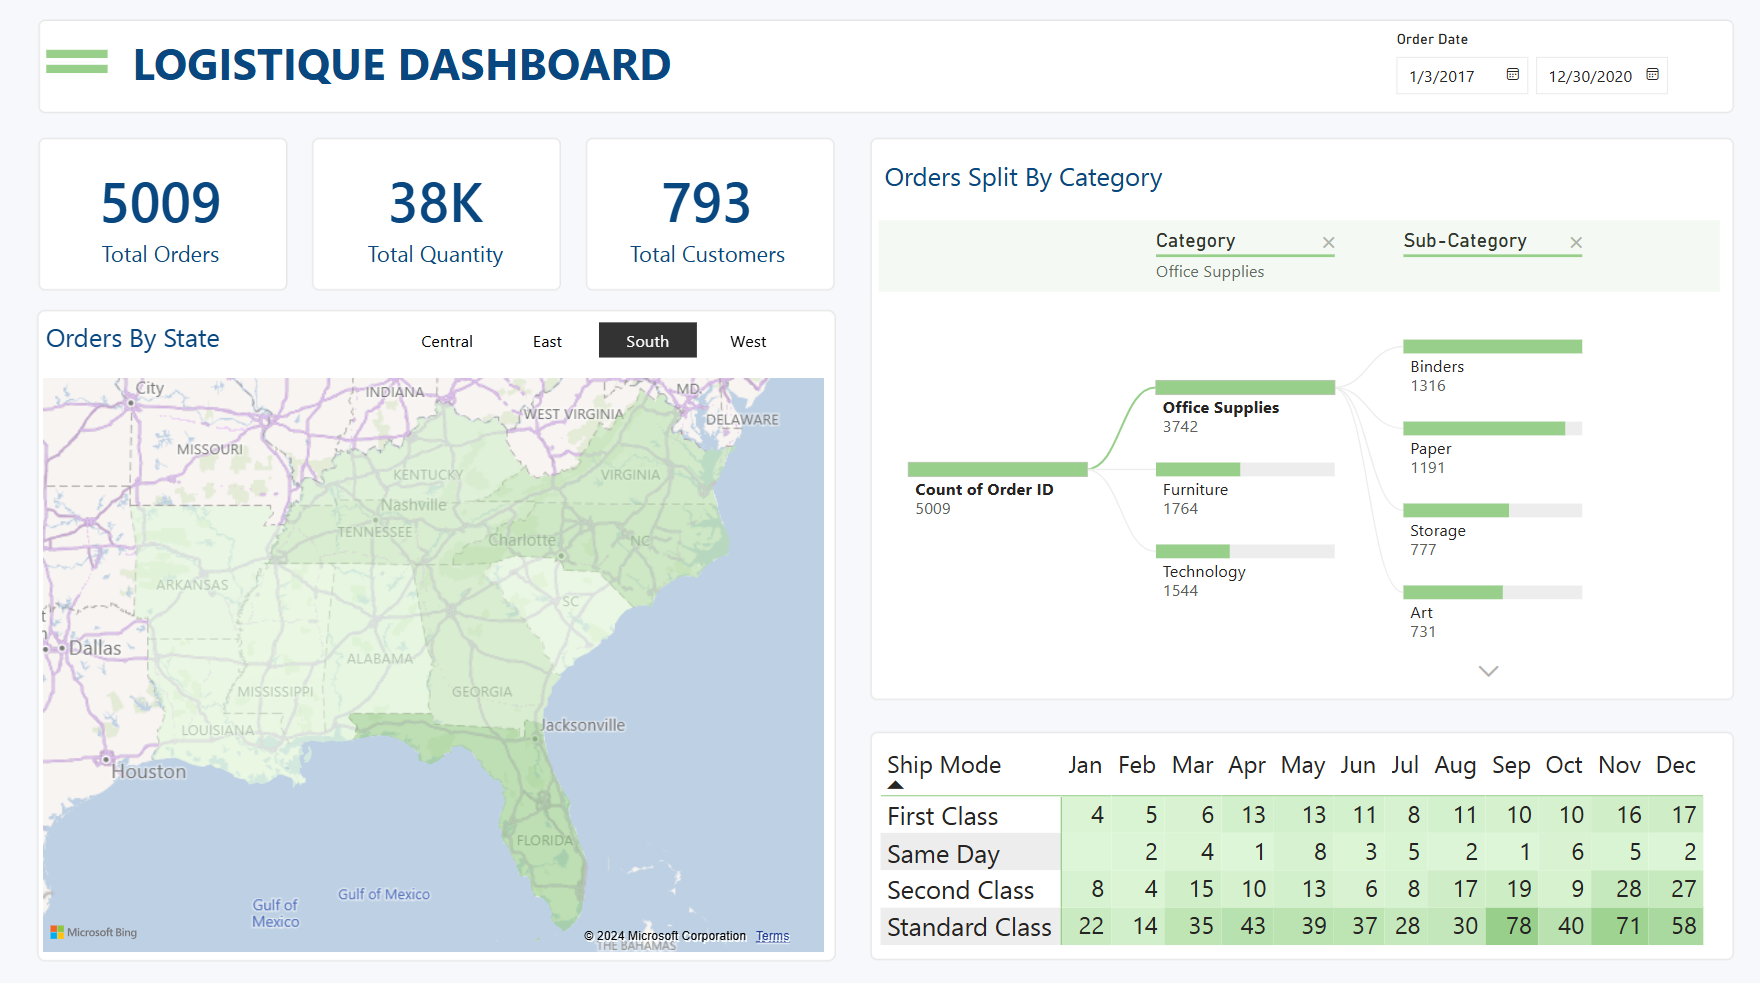

What the dashboard file says about the page in this screenshot:
{"tool":"powerbi","page":{"name":"Page 1","canvas":[1280,720],"ordinal":0},"visuals":[{"type":"card","fields":{"Values":["Count(Sheet1.Order ID)"]},"box":[26.5,101.3,181,112.2],"z":0},{"type":"filledMap","fields":{"Category":["Sheet1.State"]},"box":[26.5,271.2,577.9,427.3],"z":0,"group":"g1"},{"type":"card","fields":{"Values":["Sum(Sheet1.Quantity)"]},"box":[226.8,101.3,181,112.2],"z":1000},{"type":"slicer","fields":{"Values":["Sheet1.Region"]},"box":[264.2,226.8,340.2,44.4],"z":1000,"group":"g1"},{"type":"card","fields":{"Values":["Count(Sheet1.Customer ID)"]},"box":[423.5,101.3,182.2,112.2],"z":2000},{"type":"textbox","box":[26.5,226.8,263,44.4],"z":2000,"group":"g1"},{"type":"decompositionTreeVisual","fields":{"Analyze":["Count(Sheet1.Order ID)"],"ExplainBy":["Sheet1.Category","Sheet1.Sub-Category"]},"box":[631,150.8,629.8,360.7],"z":3000,"group":"g2"},{"type":"pivotTable","fields":{"Rows":["Sheet1.Ship Mode"],"Columns":["Sheet1.Short Month"],"Values":["Count(Sheet1.Order ID)"]},"box":[629.8,533.2,631,165.3],"z":3000},{"type":"shape","box":[639.4,161,611.7,52.1],"z":4000,"group":"g2"},{"type":"group","id":"g1","title":"Group 2","box":[26.5,226.8,577.9,471.7],"z":4000},{"type":"textbox","box":[25.3,15.7,1235.4,68.8],"z":5000},{"type":"textbox","box":[631,101.3,629.8,49.5],"z":5000,"group":"g2"},{"type":"shape","box":[33.8,22.9,44.6,25.3],"z":6000,"group":"g3"},{"type":"shape","box":[33.8,33.8,44.6,25.3],"z":7000,"group":"g3"},{"type":"slicer","fields":{"Values":["Sheet1.Order Date"]},"box":[1002.6,16.9,235.3,67.6],"z":8000},{"type":"group","id":"g2","title":"Group 1","box":[631,101.3,629.8,410.2],"z":9000},{"type":"group","id":"g3","title":"Group 3","box":[33.8,22.9,44.6,36.2],"z":9001}]}

Visuals, with their boxes in screenshot pixels (x1, y1, x2, y2), scaled from the page's 1280x720 canvas onto the 1760x983 screenshot:
card - Count(Sheet1.Order ID): left=36, top=138, right=285, bottom=291
filledMap - Sheet1.State: left=36, top=370, right=831, bottom=954
card - Sum(Sheet1.Quantity): left=312, top=138, right=561, bottom=291
slicer - Sheet1.Region: left=363, top=310, right=831, bottom=370
card - Count(Sheet1.Customer ID): left=582, top=138, right=833, bottom=291
textbox: left=36, top=310, right=398, bottom=370
decompositionTreeVisual - Count(Sheet1.Order ID) x Sheet1.Category: left=868, top=206, right=1734, bottom=698
pivotTable - Sheet1.Ship Mode x Sheet1.Short Month: left=866, top=728, right=1734, bottom=954
shape: left=879, top=220, right=1720, bottom=291
"Group 2" group: left=36, top=310, right=831, bottom=954
textbox: left=35, top=21, right=1733, bottom=115
textbox: left=868, top=138, right=1734, bottom=206
shape: left=46, top=31, right=108, bottom=66
shape: left=46, top=46, right=108, bottom=81
slicer - Sheet1.Order Date: left=1379, top=23, right=1702, bottom=115
"Group 1" group: left=868, top=138, right=1734, bottom=698
"Group 3" group: left=46, top=31, right=108, bottom=81
